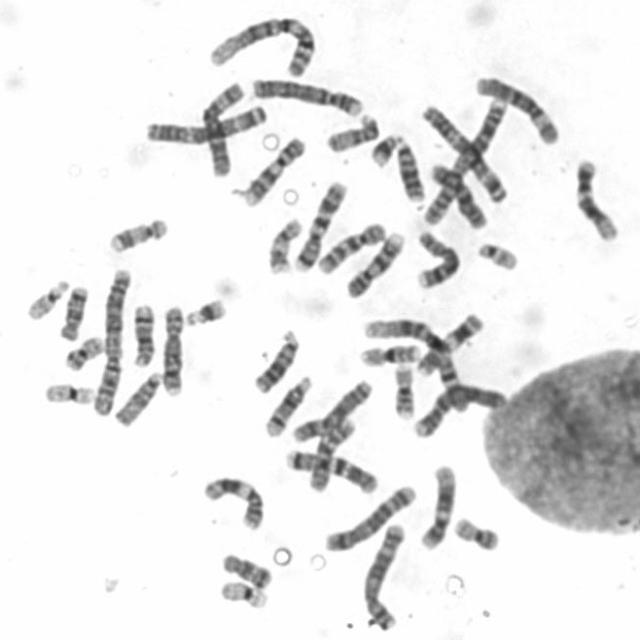A1: (360, 314, 472, 416), (204, 12, 318, 79)
A2: (421, 96, 512, 226), (89, 264, 133, 417)
A3: (417, 101, 509, 203), (141, 100, 269, 146)
B4: (410, 379, 508, 438), (248, 74, 367, 118)
B5: (320, 480, 419, 554), (359, 522, 407, 632)
C10: (303, 414, 358, 494), (312, 219, 387, 276)
C11: (412, 310, 484, 377), (200, 472, 266, 532)
C12: (571, 154, 620, 243), (417, 462, 458, 550)
C6: (472, 72, 561, 146), (198, 79, 246, 178)
C7: (290, 176, 349, 273), (281, 446, 379, 494)
C8: (412, 226, 463, 292), (158, 301, 186, 399)
C9: (240, 134, 306, 208), (342, 229, 406, 300)
D13: (250, 326, 301, 395), (393, 136, 426, 203)
D14: (262, 372, 313, 438), (128, 301, 156, 368)
D15: (112, 369, 162, 428), (322, 110, 382, 154)
E16: (356, 340, 422, 368), (390, 361, 416, 419)
E17: (104, 214, 170, 256), (264, 215, 304, 276)
E18: (217, 549, 274, 590), (56, 281, 90, 342)
F19: (216, 577, 271, 610), (41, 379, 96, 407)
F20: (451, 514, 501, 552), (61, 333, 105, 372)
G21: (181, 294, 229, 328), (366, 130, 404, 168)
G22: (23, 276, 70, 321), (475, 238, 521, 272)
X: (288, 376, 374, 444), (426, 160, 487, 230)
